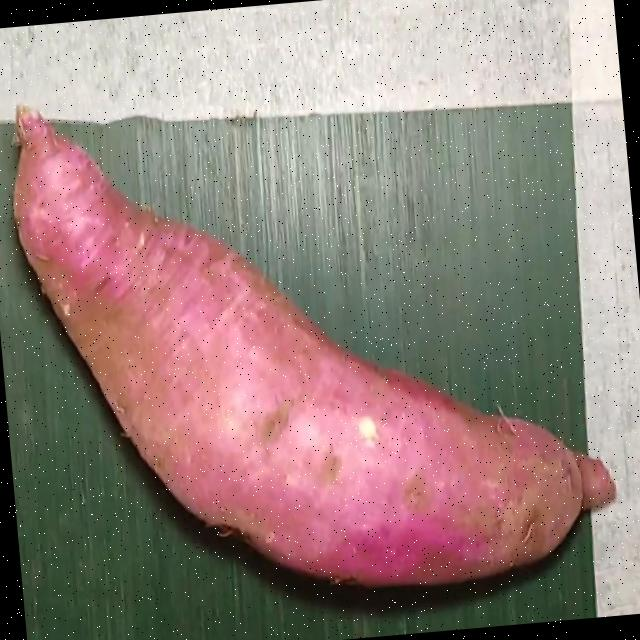Sweet Potato: (12, 103, 618, 588)
